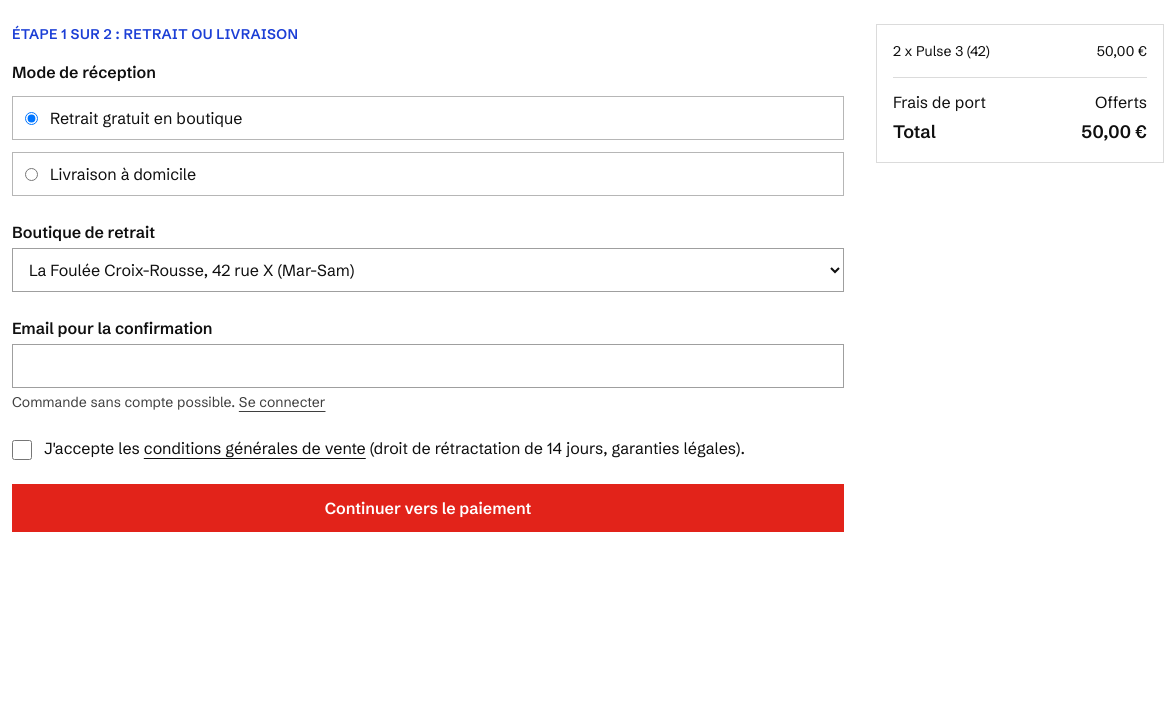
Checkout (EF05, EF06) › visiteur sans email : message, aucune commande créée
Click the checkbox labelled "conditions générales de vente" at (22, 450), box [12,440,32,460]
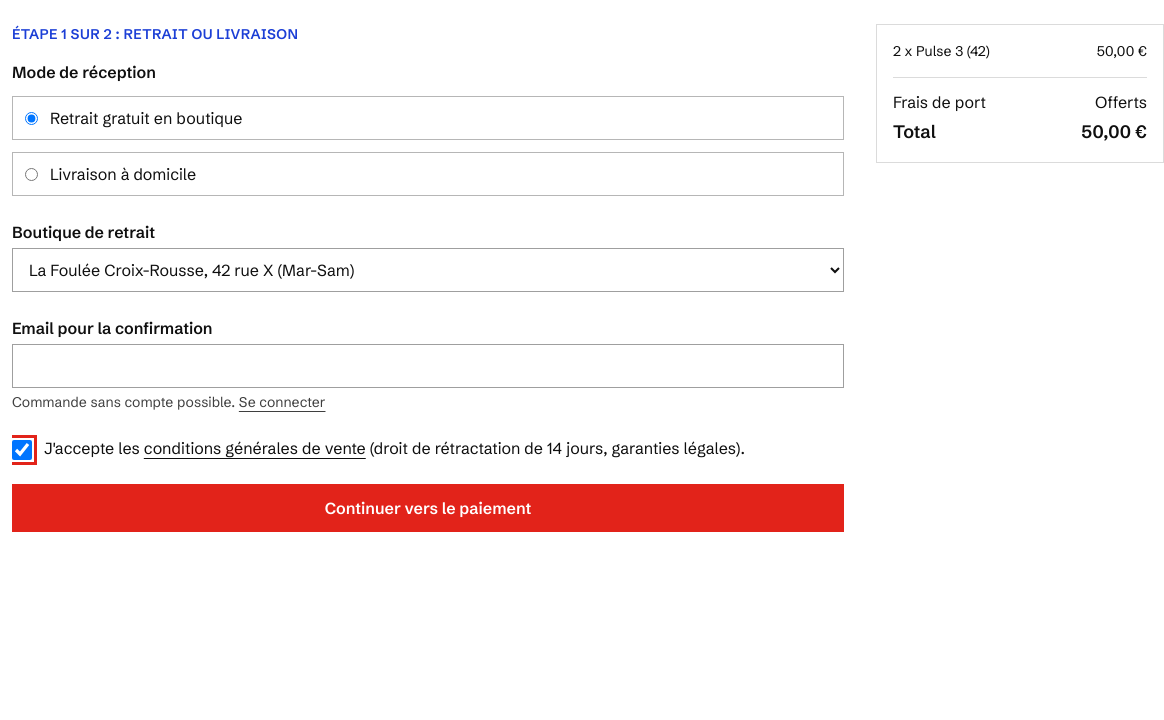
Click the button "Continuer vers le paiement" at (428, 508), box [12,484,844,532]
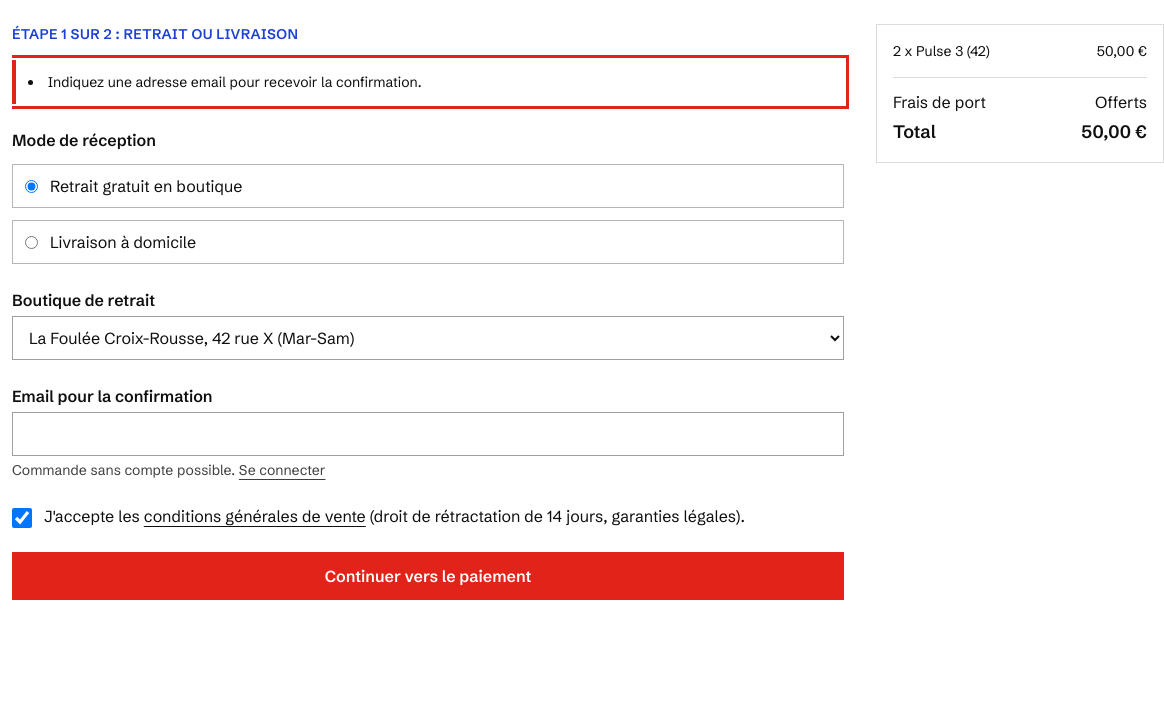
Now the message shows "adresse email", box [48,73,422,91]
